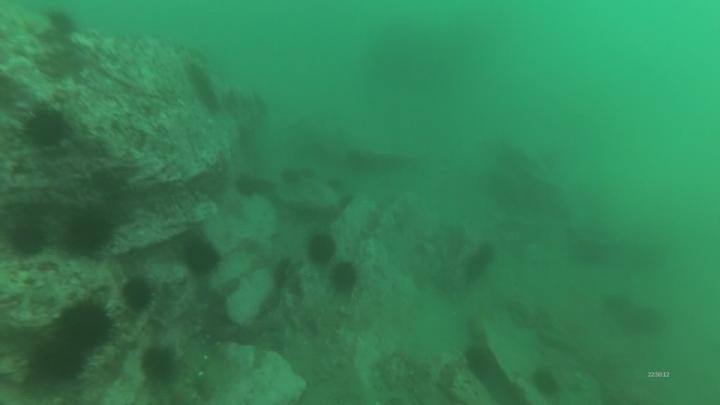echinus: (56, 299, 115, 351), (27, 335, 88, 385), (61, 207, 117, 257), (21, 105, 71, 151), (180, 237, 222, 278), (138, 343, 179, 385), (620, 302, 667, 338), (6, 220, 49, 259), (460, 241, 498, 283), (119, 275, 156, 314), (461, 343, 498, 382), (304, 230, 339, 267), (529, 366, 563, 400), (328, 260, 361, 295), (43, 8, 79, 40), (191, 83, 221, 116), (183, 61, 212, 93), (277, 163, 303, 187), (251, 173, 274, 197), (233, 172, 255, 195), (338, 191, 356, 210), (298, 163, 316, 182), (323, 170, 340, 188)
